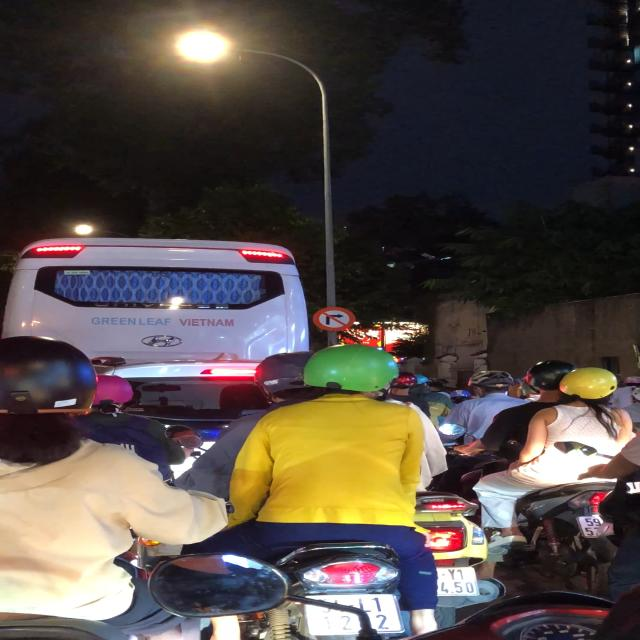Bien bao cam re phai: (312, 304, 357, 332)
